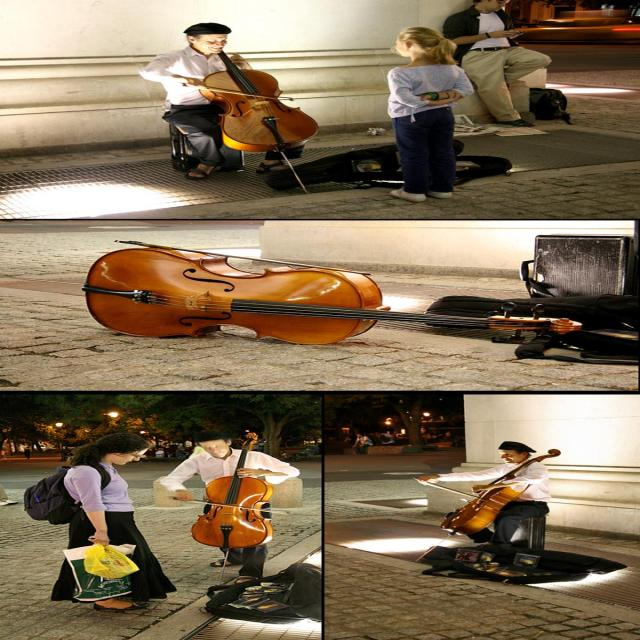cello: (76, 240, 585, 346), (198, 50, 322, 154), (176, 431, 274, 550), (442, 447, 562, 533)
